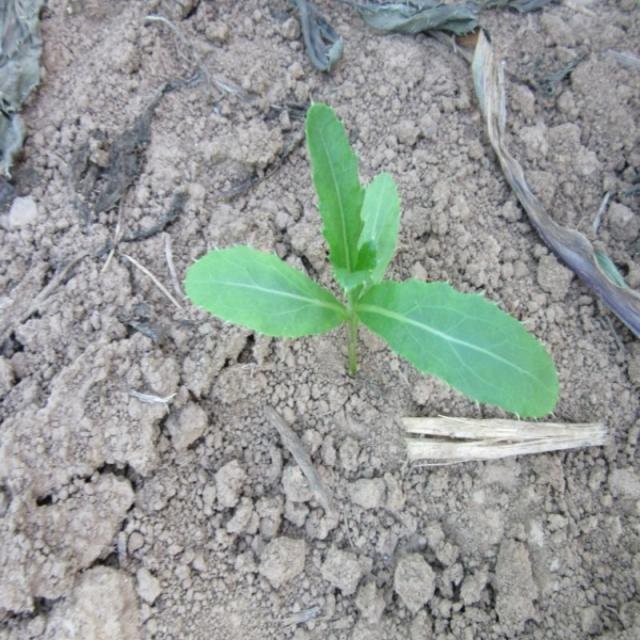cs: (184, 99, 562, 421)
